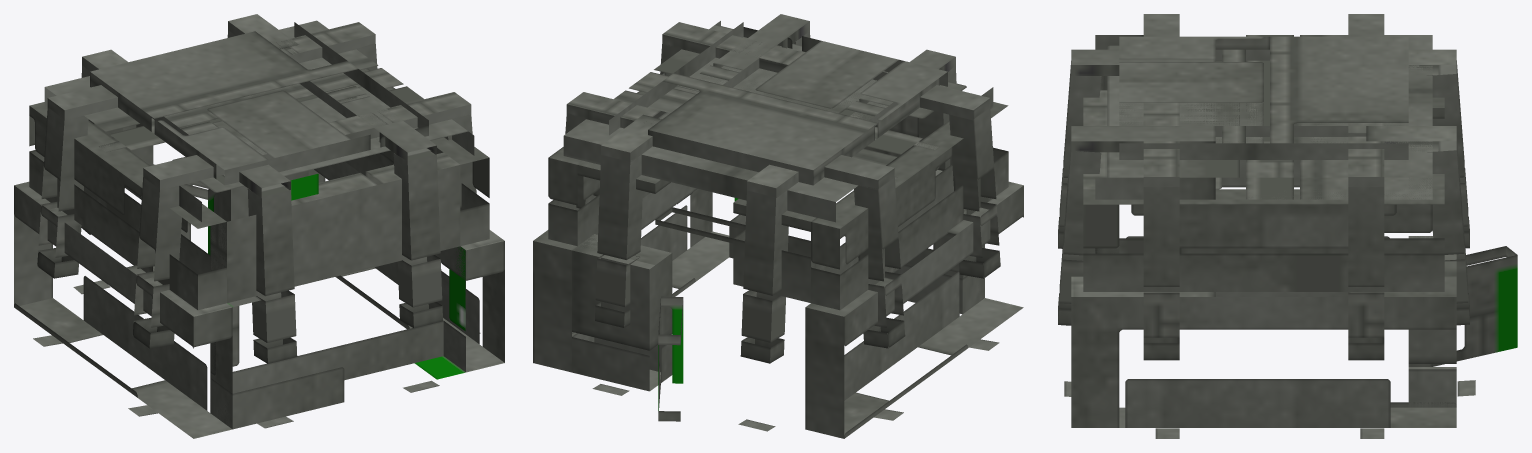
File: kiln.obj
The picture shows the model from 3 angles, left to right: view 1: azimuth 30°, elevation 25°; view 2: azimuth 150°, elevation 25°; view 3: azimuth 270°, elevation 25°; orthographic projection. The views are drawn at different scales.
Parts seen in each view (by area): view 1: shape1_____________, shape1_______________, shape6, shape5, shape3, shape2, shape7, shape1, shape1_, shape11, shape8, shape1______________ (+7 smaller); view 2: shape1_____________, shape1_______________, shape3, shape1________, shape2, shape7, shape1_____, shape1___, shape11, shape8, shape1__, shape1______________ (+11 smaller); view 3: shape2, shape1_____________, shape4, shape7, shape1___________, shape1____________, shape1__, shape9, shape1________, shape1___, shape1, shape1____ (+7 smaller).
Boxes of the visible parts, left/top/right/bottom form: shape1_____________: left=90, top=22, right=428, bottom=185; shape1_______________: left=14, top=181, right=232, bottom=438; shape6: left=210, top=152, right=460, bottom=302; shape5: left=210, top=247, right=465, bottom=429; shape3: left=29, top=102, right=226, bottom=310; shape2: left=308, top=161, right=504, bottom=372; shape7: left=44, top=20, right=474, bottom=221; shape1: left=393, top=148, right=442, bottom=392; shape1_: left=247, top=183, right=297, bottom=428; shape11: left=128, top=177, right=184, bottom=416; shape8: left=33, top=107, right=88, bottom=346; shape1______________: left=143, top=92, right=471, bottom=190; shape1_____________: left=609, top=22, right=947, bottom=185; shape1_______________: left=805, top=181, right=1023, bottom=438; shape3: left=811, top=102, right=1008, bottom=310; shape1________: left=572, top=234, right=672, bottom=391; shape2: left=533, top=182, right=729, bottom=372; shape7: left=563, top=21, right=993, bottom=222; shape1_____: left=738, top=190, right=788, bottom=431; shape1___: left=592, top=155, right=642, bottom=395; shape11: left=949, top=107, right=1000, bottom=350; shape8: left=854, top=177, right=905, bottom=420; shape1__: left=601, top=14, right=809, bottom=162; shape1______________: left=662, top=22, right=990, bottom=120; shape2: left=1071, top=276, right=1456, bottom=427; shape1_____________: left=1119, top=36, right=1408, bottom=159; shape4: left=1083, top=189, right=1444, bottom=291; shape7: left=1095, top=35, right=1432, bottom=199; shape1___________: left=1143, top=187, right=1179, bottom=438; shape1____________: left=1348, top=187, right=1384, bottom=438; shape1__: left=1071, top=126, right=1456, bottom=152; shape9: left=1432, top=246, right=1517, bottom=366; shape1________: left=1408, top=236, right=1456, bottom=407; shape1___: left=1427, top=137, right=1475, bottom=396; shape1: left=1058, top=137, right=1101, bottom=396; shape1____: left=1071, top=49, right=1456, bottom=75.
Size of the model in its own units: 4.39 by 3 by 4.83.
